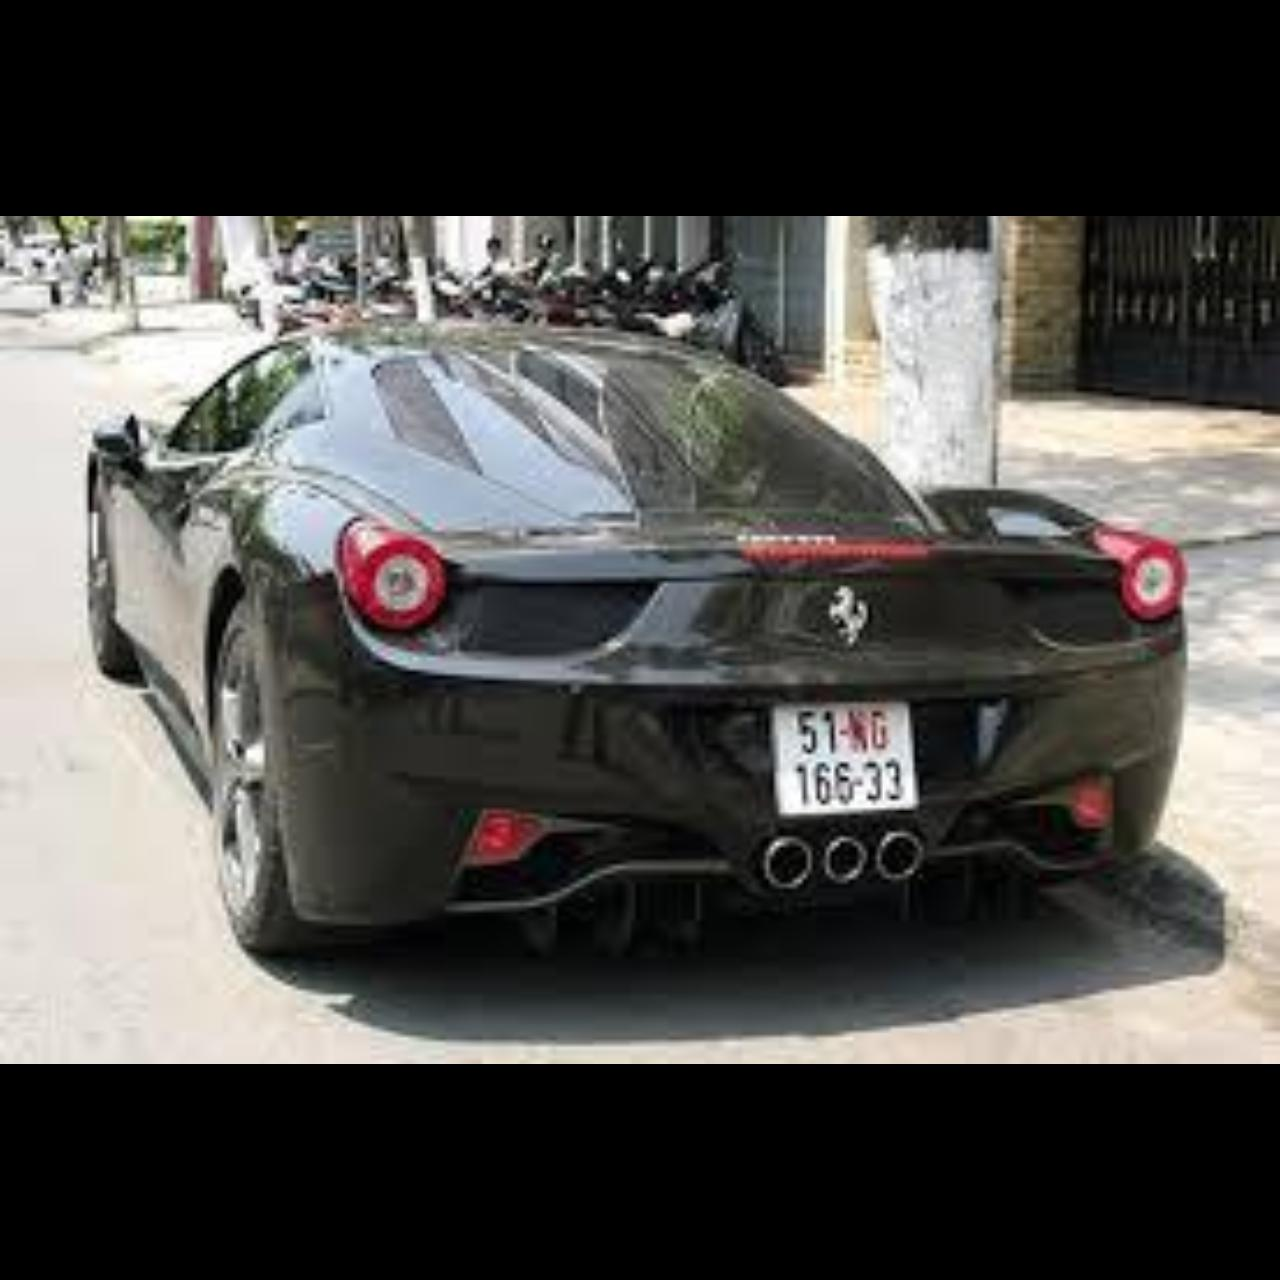bienso: (768, 696, 921, 822)
